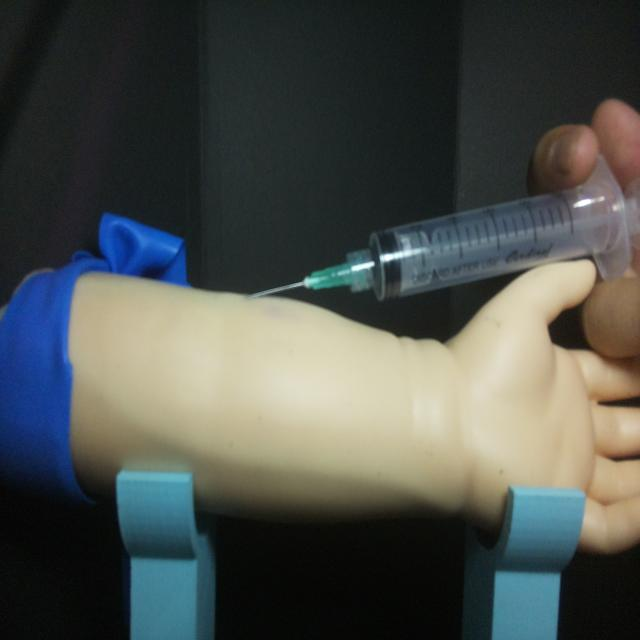20deg: (242, 154, 634, 309)
